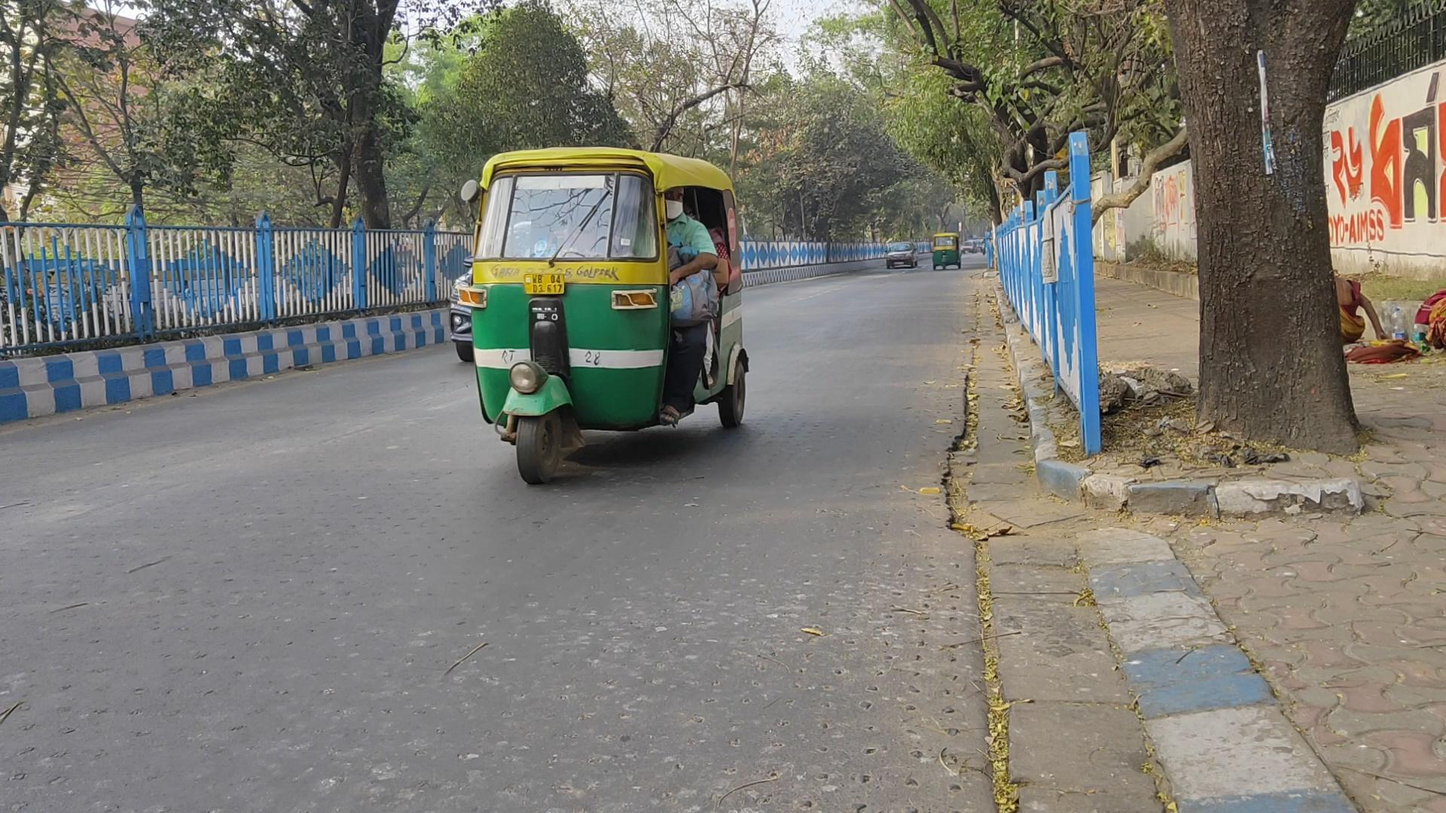Auto: (458, 145, 748, 486), (930, 231, 963, 271)
car: (885, 239, 920, 269)
